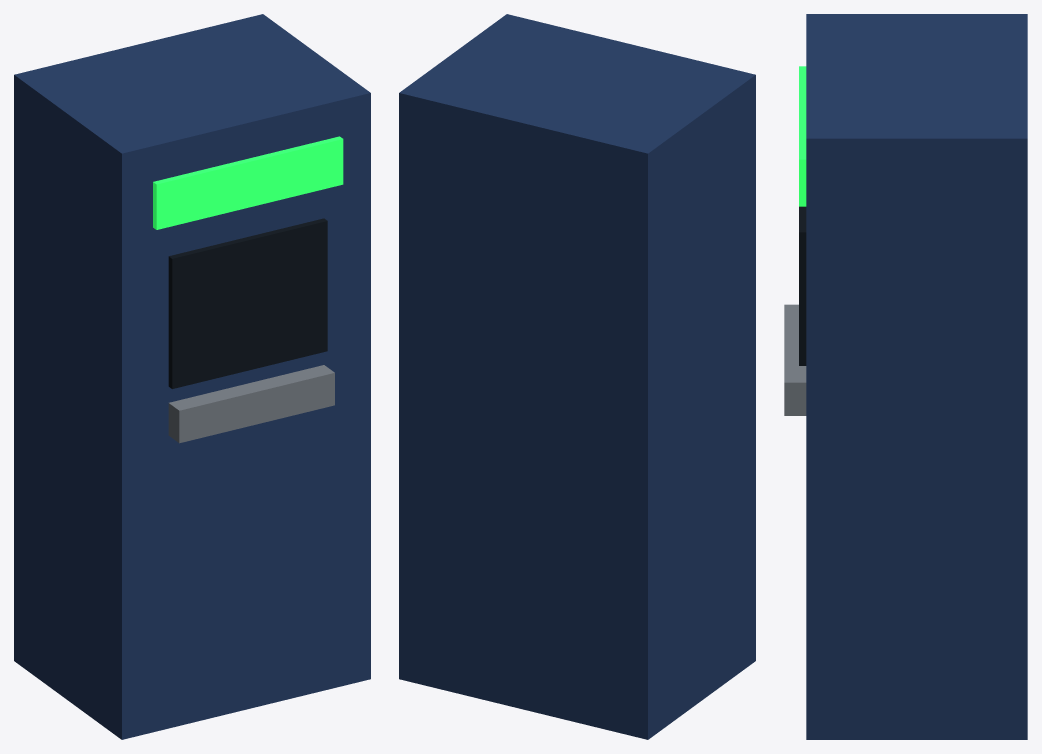
The model's file is atm.glb.
3 views of the same model, side by side, from view 1: azimuth 30°, elevation 25°; view 2: azimuth 150°, elevation 25°; view 3: azimuth 270°, elevation 25° (orthographic). The views are drawn at different scales.
Parts seen in each view (by area): view 1: atm_Body; view 2: atm_Body; view 3: atm_Body.
Part boxes in pixels (x1=…): atm_Body: x1=14, y1=14, x2=370, y2=739; atm_Body: x1=399, y1=14, x2=755, y2=739; atm_Body: x1=784, y1=14, x2=1027, y2=739.
Bounding box in the file's own units: 0.8 × 1.8 × 0.66.
